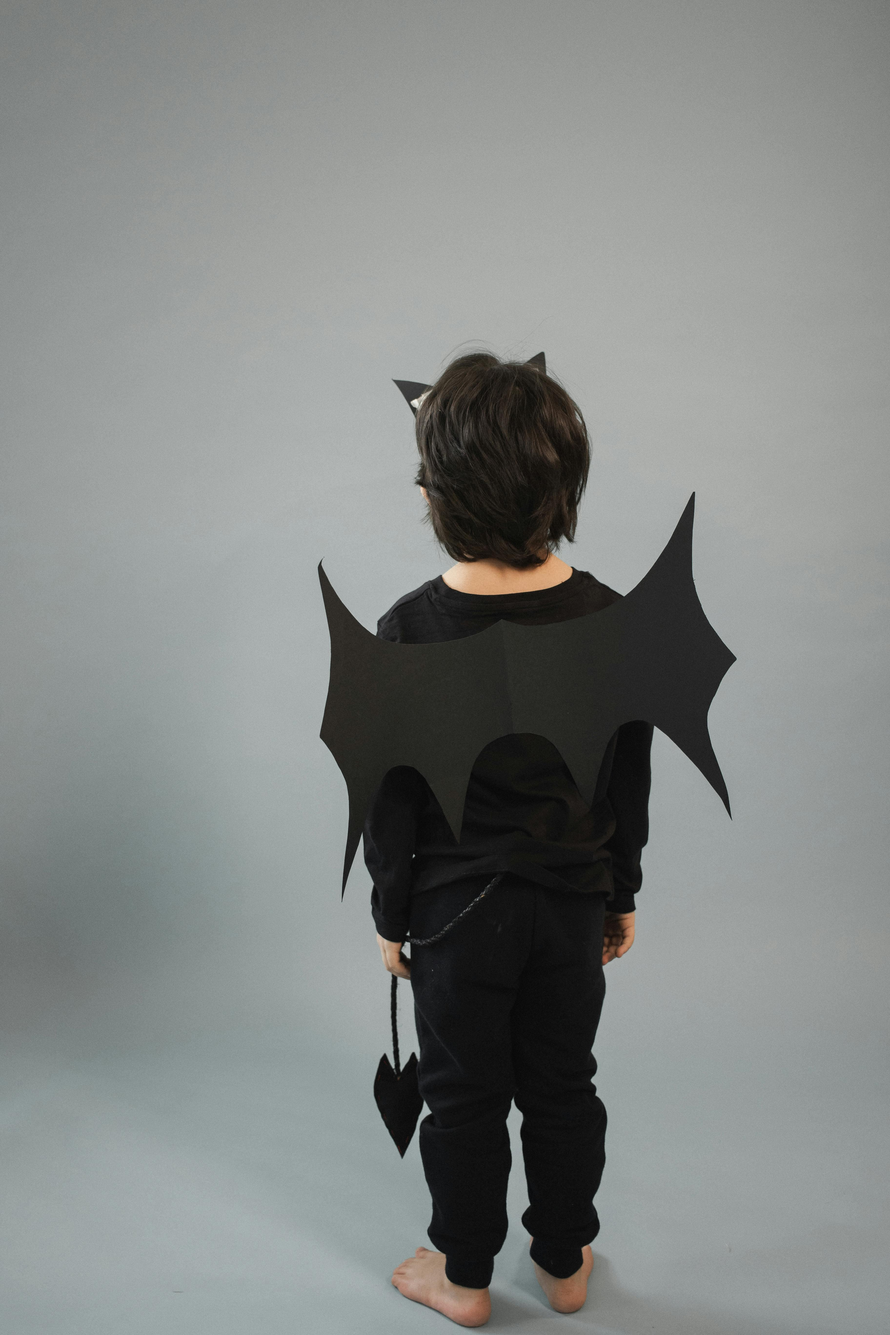Human: (335, 267, 728, 1335)
